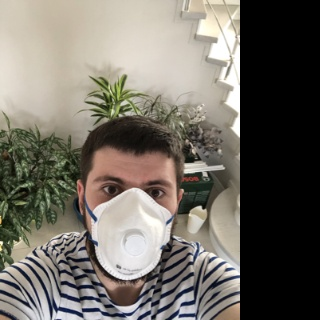with_mask: (88, 162, 176, 284)
